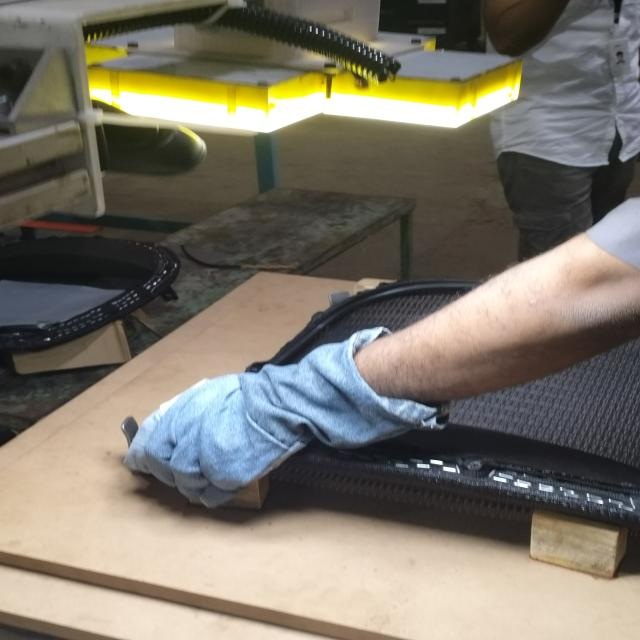Gloves-Detection: (128, 331, 395, 512)
